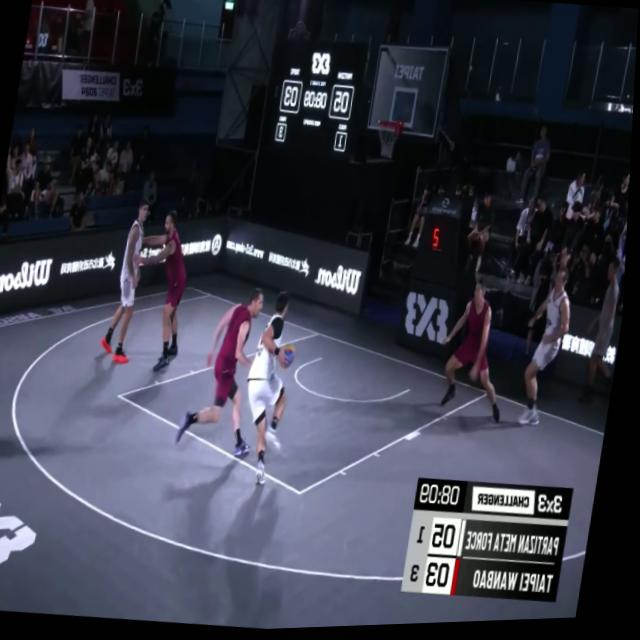ball: (281, 343, 301, 374)
hoop: (373, 119, 405, 168)
player: (176, 282, 273, 459), (440, 277, 528, 428), (238, 294, 306, 479), (518, 268, 581, 433), (141, 208, 199, 367), (105, 197, 157, 360)
